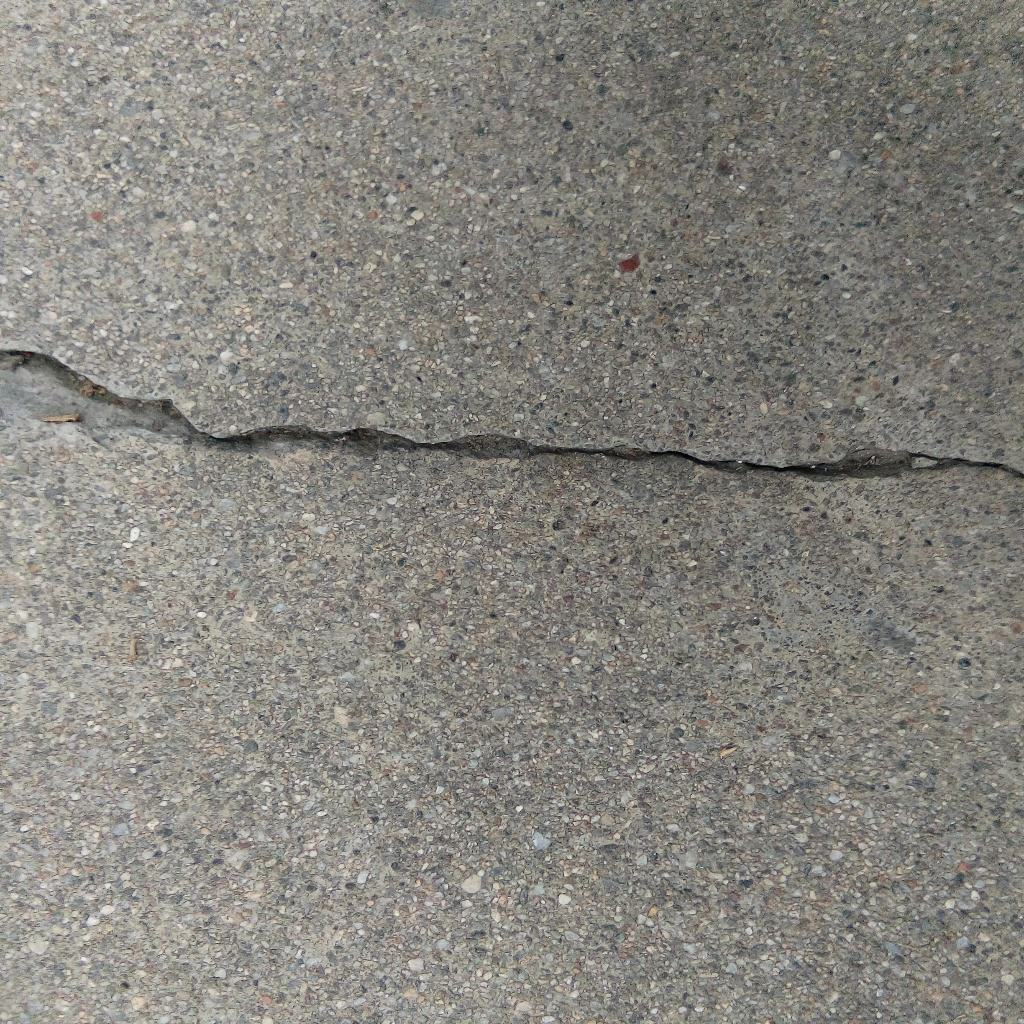Crack: (1, 348, 1024, 482)
